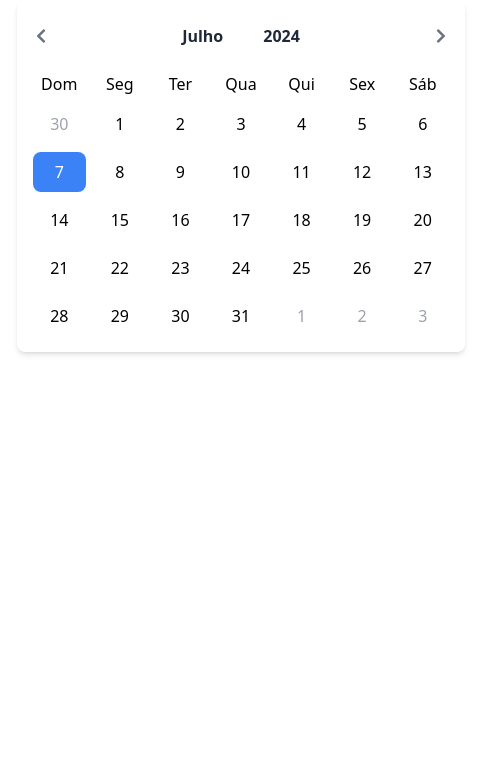
Scenario: Calendar › changes the year using the year select
This screenshot has width=483, height=767.
What coordinates should you click on to do the following:
click the text "2024"
I would click on:
 (282, 36)
Its box is [263, 24, 300, 48].
(page scrolled)
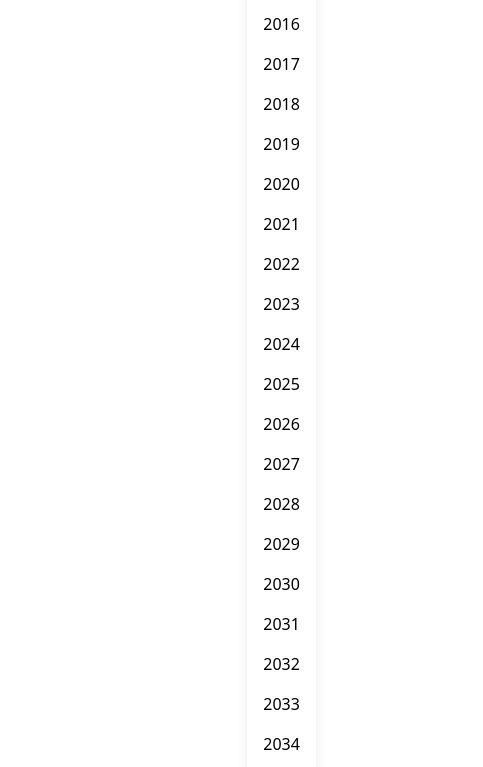
What coordinates should you click on to do the following:
click the text "2025"
I would click on:
 (282, 384)
Its box is [263, 373, 300, 395].
(page scrolled)
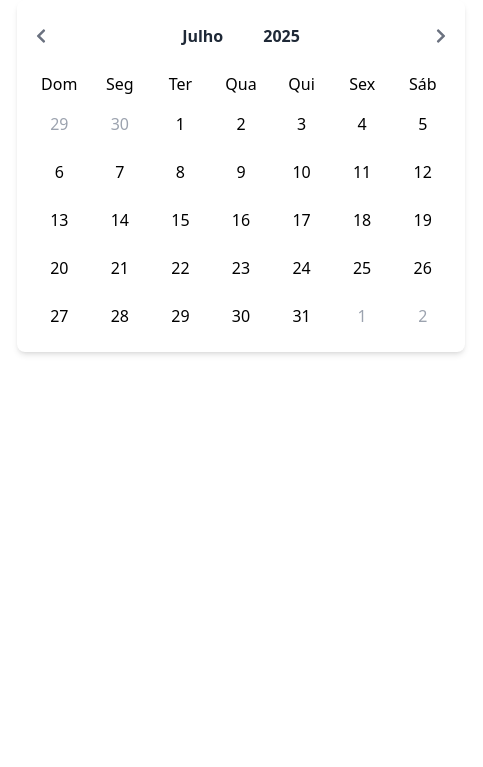
Expected: the text "2025" is shown, [263, 24, 300, 48]
